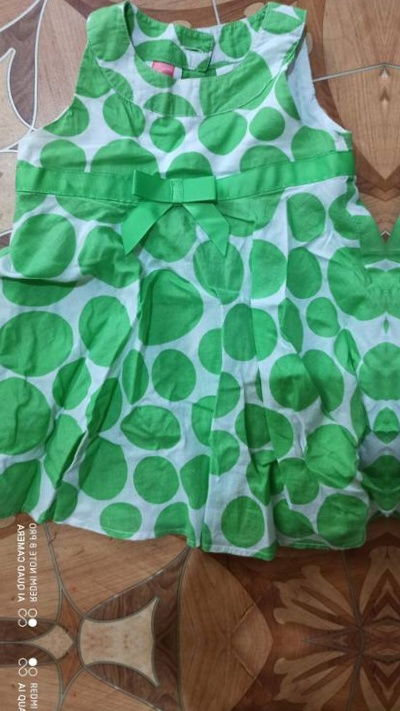Dress: (0, 0, 383, 572), (390, 0, 400, 570), (394, 710, 400, 711), (0, 0, 0, 574)
